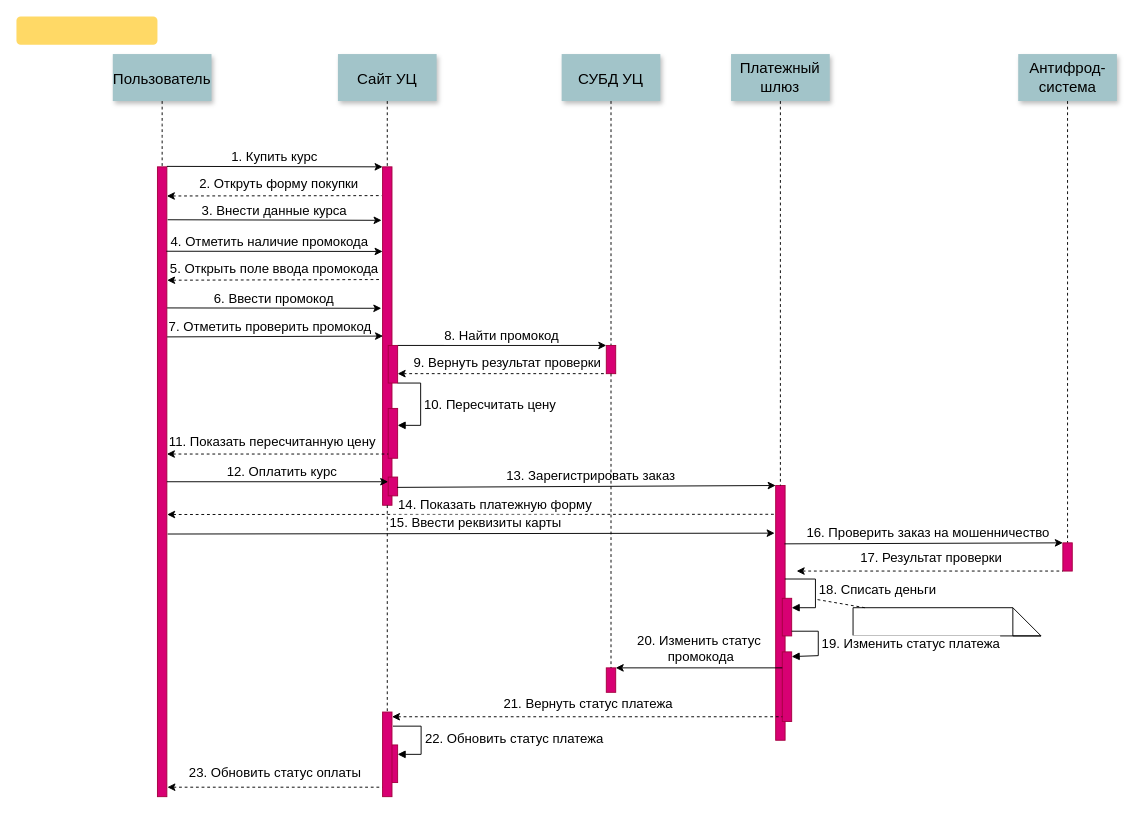
Image size: 1138x813. Some labels were removed from this diagram. Here are the shapes that lost their labels. From the top down, the centre of each, then its label:
At pixel 86 30: "Course purchase".
At pixel 946 621: "если заказ не мошеннеческий".
